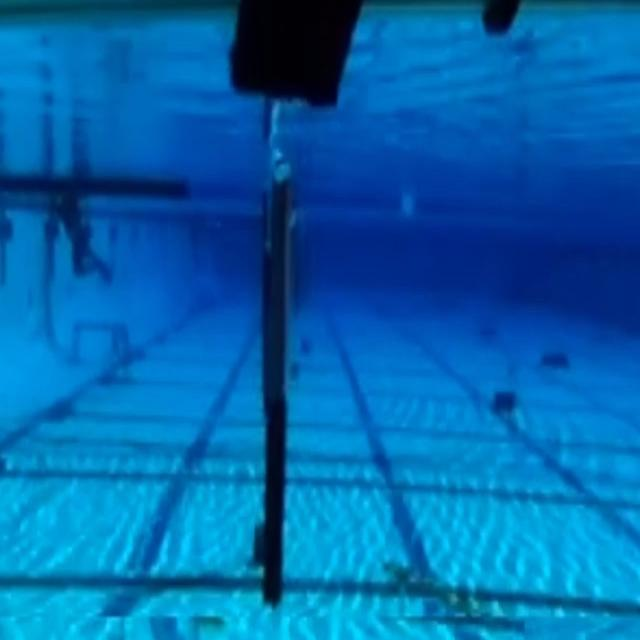Gate: (253, 156, 299, 602)
